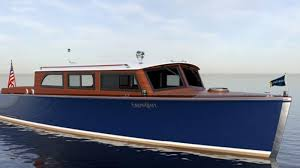boat: (1, 45, 293, 168)
